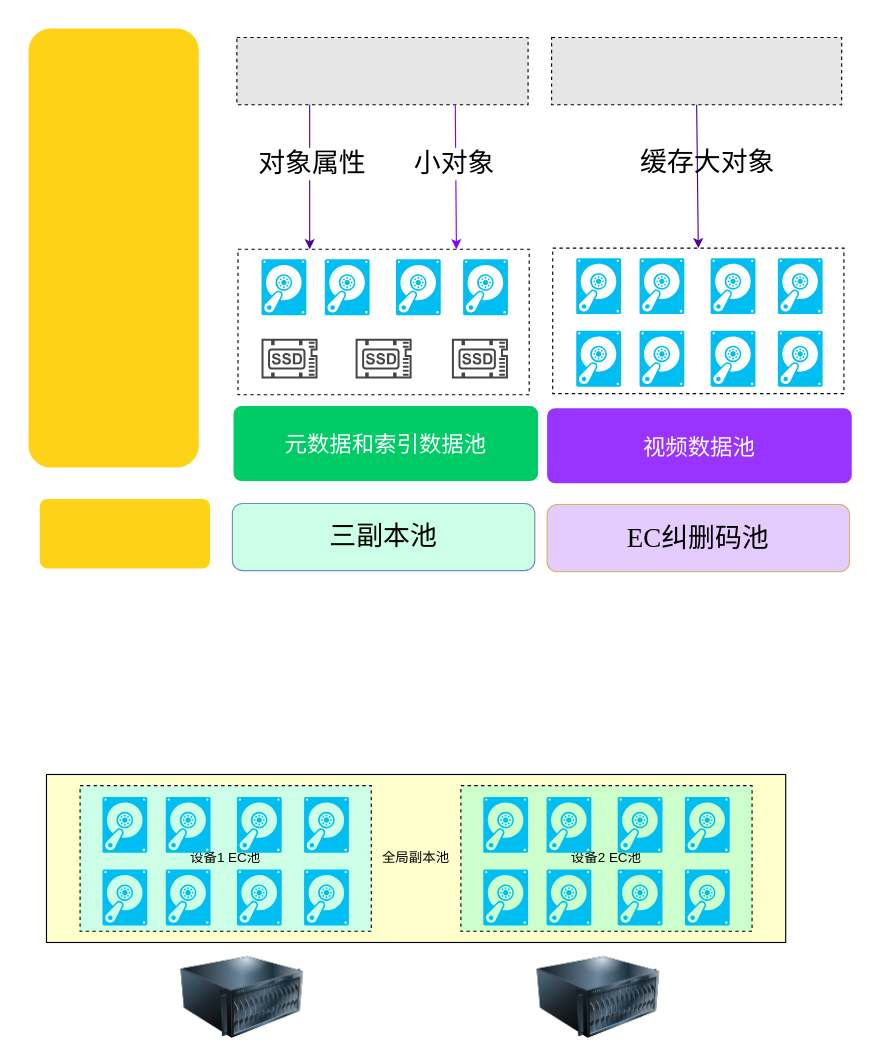
Some shapes in this 879 by 1061 pixel diagram are drawn without their labels. Here are the shapes that lost their labels. From the top down, the centre of each, then its label:
pixel 382 70: 元数据 | 索引文件数据
pixel 696 70: 视频图像数据(>1MB)
pixel 113 247: 存储策略
pixel 124 533: 配置
